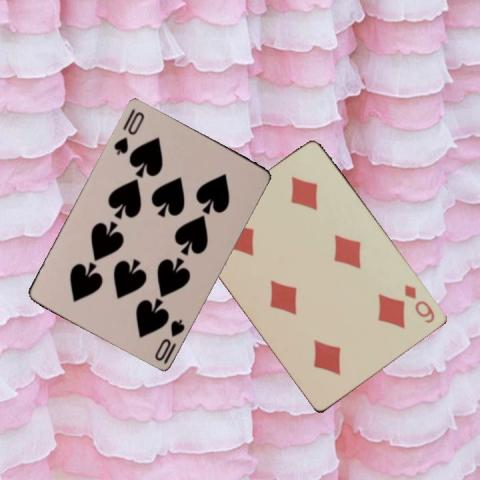10s: (111, 108, 146, 155), (151, 315, 186, 362)
6d: (401, 281, 437, 325)
